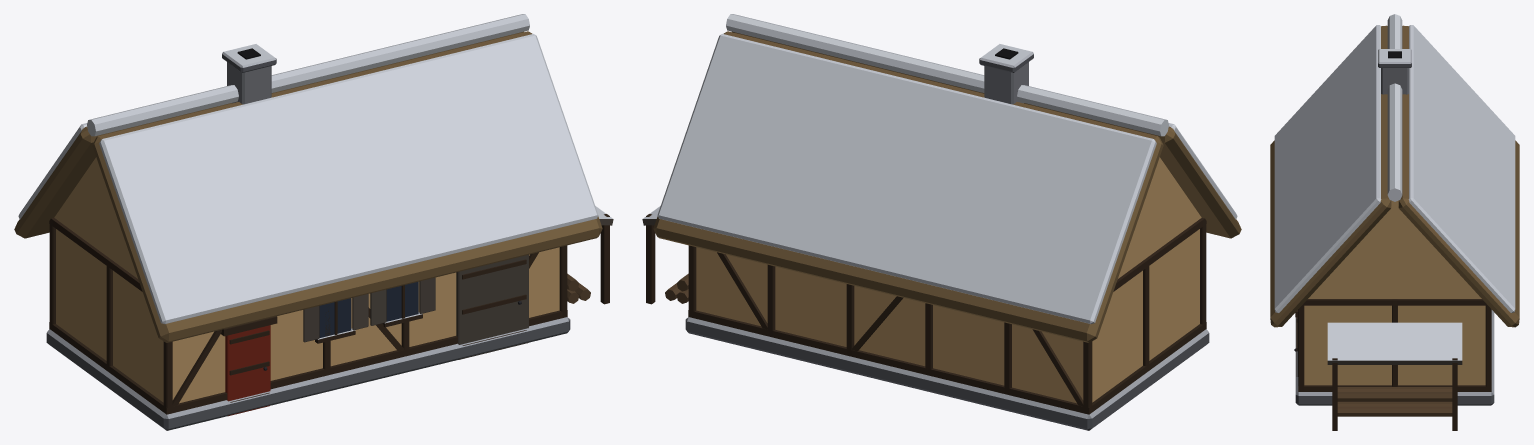
Rendered from village_house_long.glb.
The picture shows the model from 3 angles, left to right: view 1: azimuth 30°, elevation 25°; view 2: azimuth 150°, elevation 25°; view 3: azimuth 270°, elevation 25°; orthographic projection. The views are drawn at different scales.
Visible parts, largest first — view 1: village_house_long; view 2: village_house_long; view 3: village_house_long.
Part boxes in pixels (x1,y1,x2,y2): village_house_long: (14,14,613,430); village_house_long: (642,14,1241,430); village_house_long: (1270,14,1519,430).
Size of the model in its own units: 12.29 by 7.28 by 6.65.
